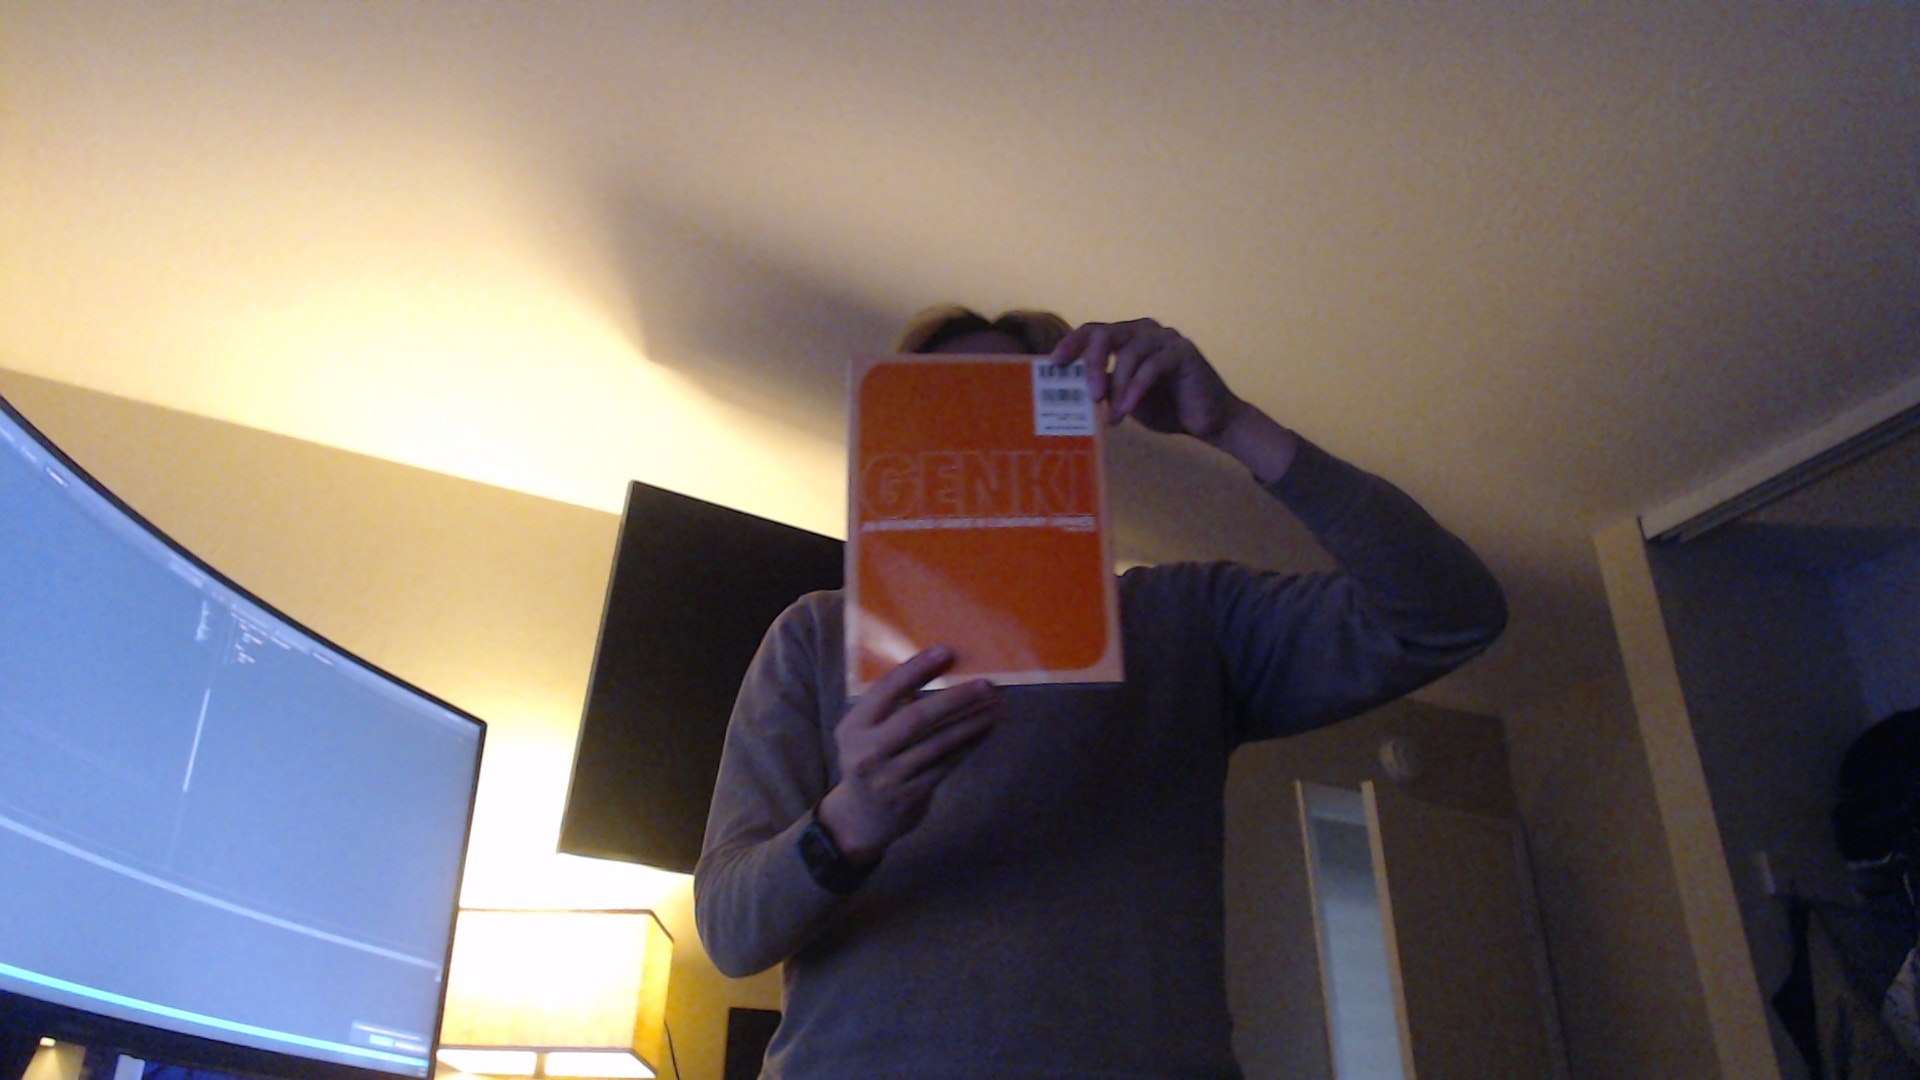book: (837, 345, 1131, 695)
